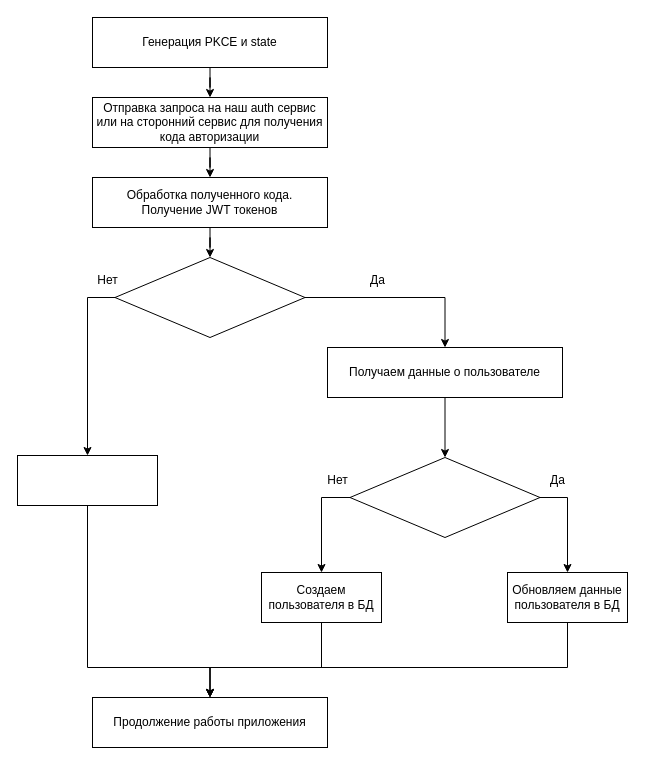
This 645x765 diagram has some shape labels left out. The box of each missing label's shape, as (x1, y1, x2, y2) in pixels:
Вывод ошибки. Возврат на авторизацию: (16, 454, 158, 506)
Такой пользователь уже есть?: (349, 456, 540, 538)
Токены получены?: (114, 256, 305, 338)
